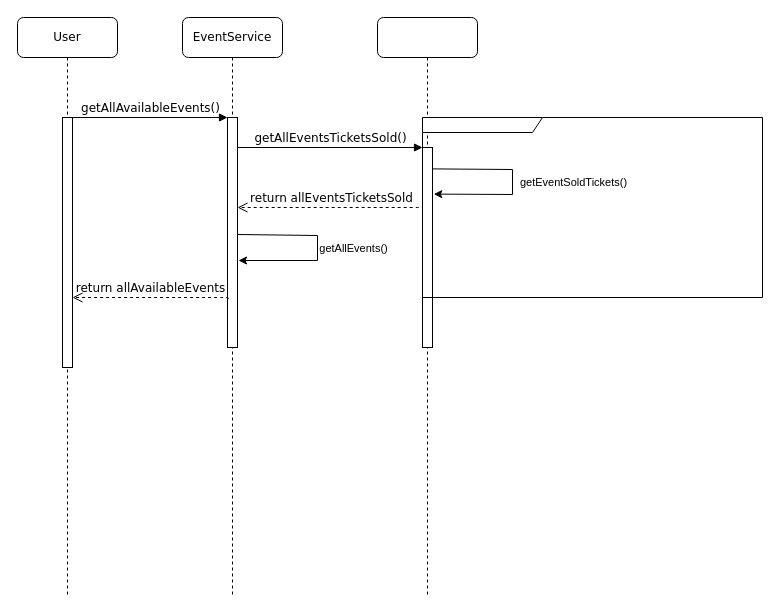
This 780x615 diagram has some shape labels left out. Here are the shapes that lost their labels. From the top down, the centre of each, then its label:
At (592,207): "Loop [each event]".
At (427,307): "Ticket-sale Service".
